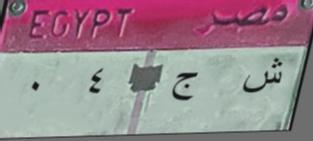0: (28, 70, 48, 99)
4: (79, 65, 112, 102)
jeem: (167, 69, 204, 109)
sheen: (239, 54, 290, 98)
